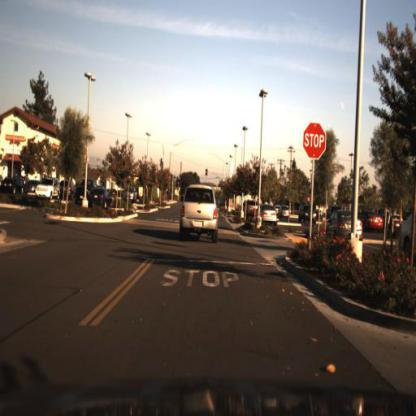car: (177, 180, 222, 250), (326, 205, 365, 252), (323, 207, 367, 239), (298, 200, 327, 233), (359, 210, 392, 237), (34, 176, 61, 203), (298, 202, 322, 229), (87, 188, 113, 210), (73, 179, 93, 207), (258, 203, 280, 227), (390, 208, 405, 239), (2, 174, 24, 194), (89, 187, 110, 207), (120, 185, 140, 206), (6, 176, 29, 194), (242, 199, 260, 222), (58, 178, 76, 200), (123, 183, 140, 205), (275, 201, 292, 221)
trafficLight-Red: (175, 178, 180, 188)
trafficLight-Yellow: (205, 166, 210, 179)
